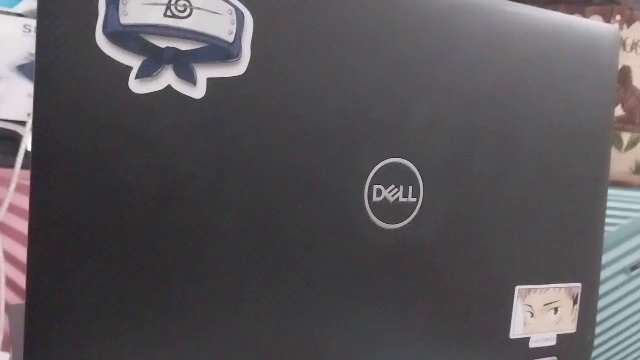laptop: (34, 1, 617, 357)
